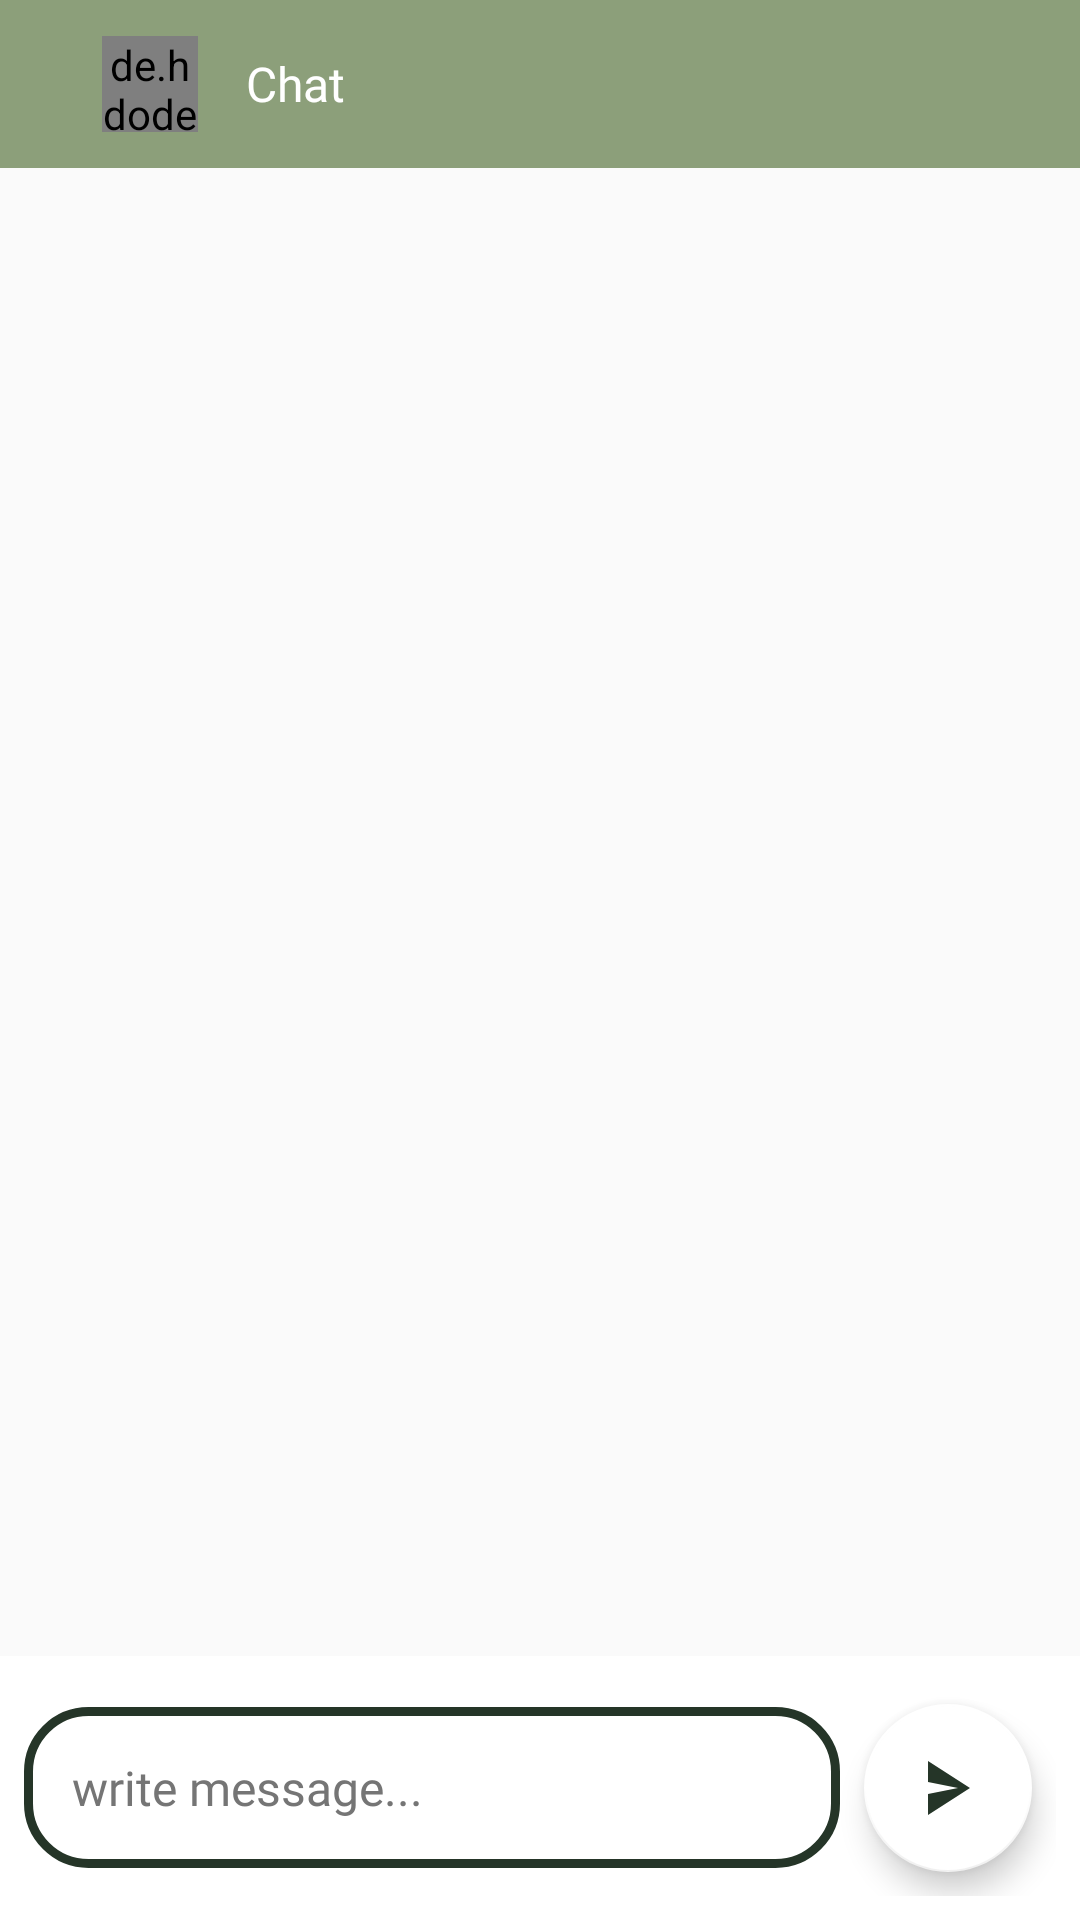

Named icons in this screenshot (1080x1920) and their centers, [x,y]:
send: [950,1816]
